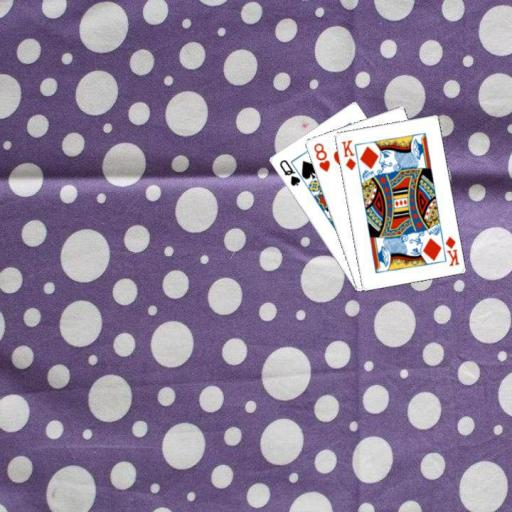8H: (310, 140, 331, 174)
KD: (338, 137, 357, 172), (442, 234, 461, 268)
QS: (276, 156, 301, 188)
